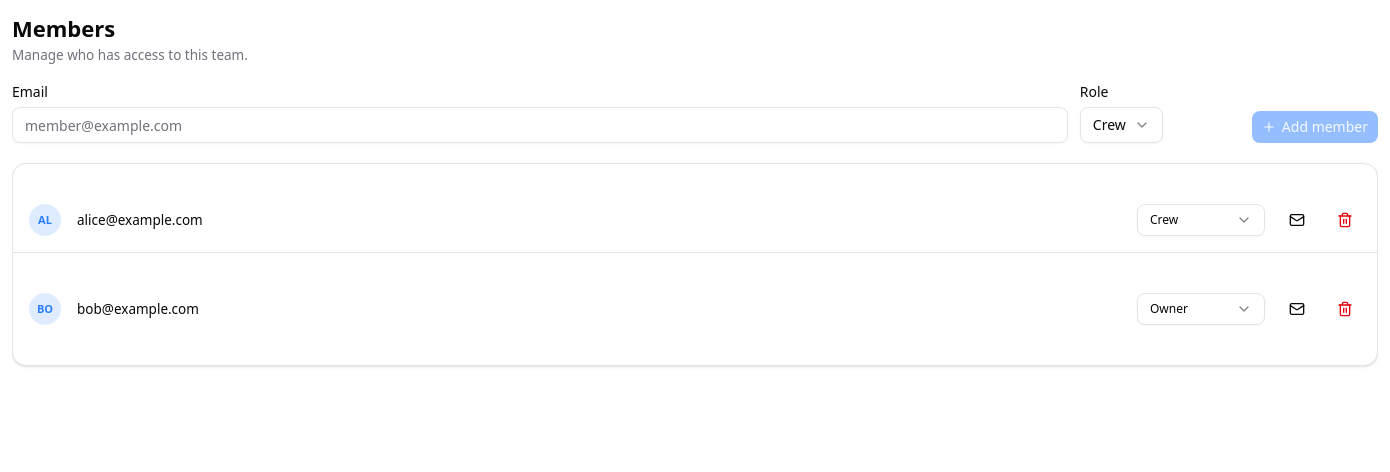
Test: MembersPage change role › shows an error and keeps the stored role when the change fails
Expected: the text "alice@example.com" is shown, [77,211,203,229]
Click the dropdown labelled "Crew" in the row of "alice@example.com".
click(1201, 220)  # box [1137,204,1265,236]
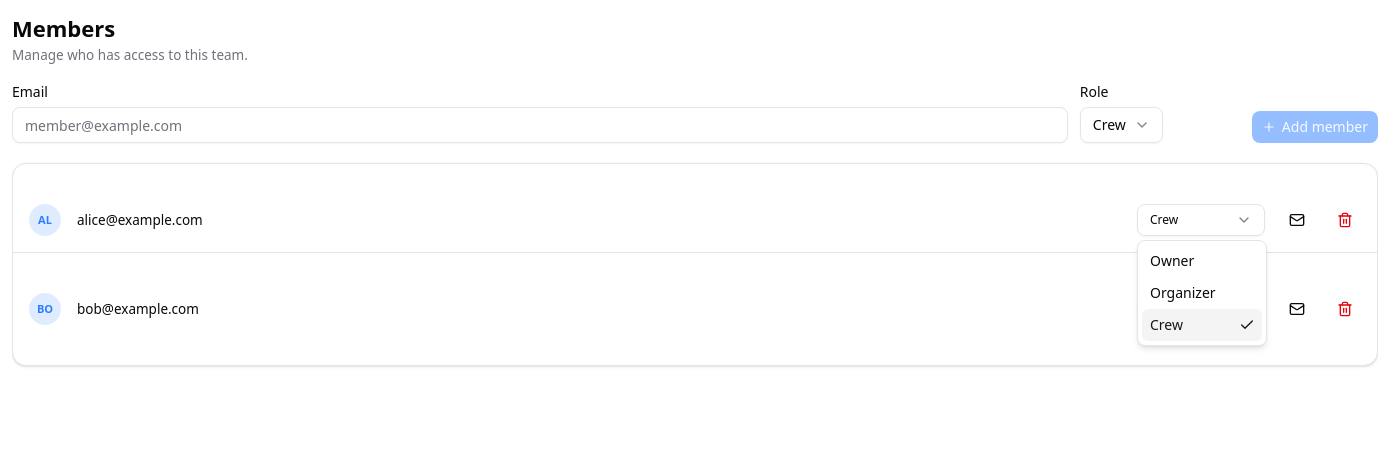
Click the option "Organizer".
click(1183, 292)  # box [1150,283,1216,302]
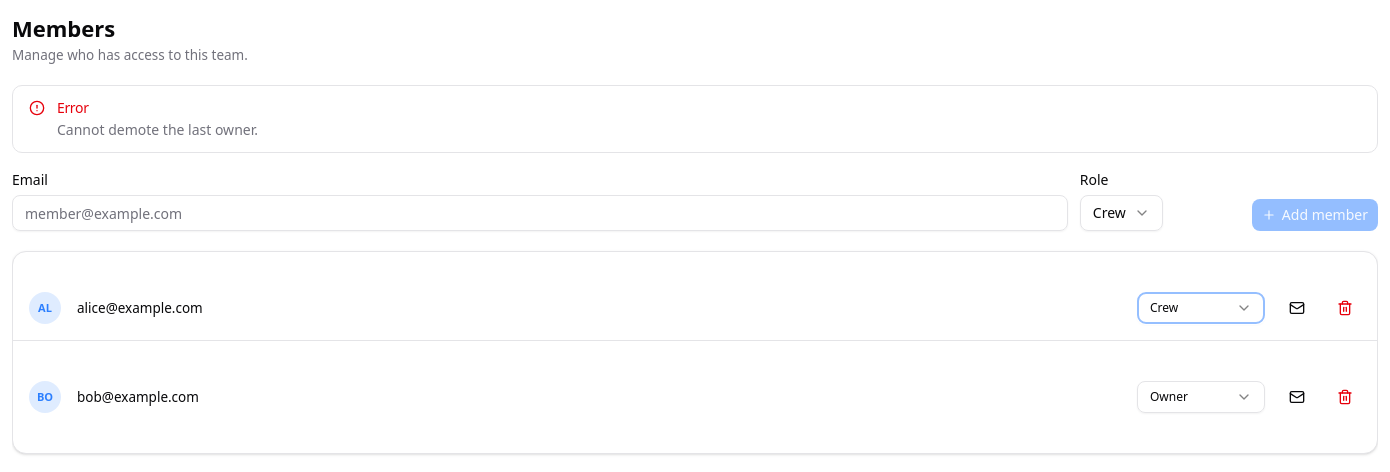
Expected: the dropdown labelled "Crew" in the row of "alice@example.com" is shown, [1137,292,1265,324]
Expected: the text "Cannot demote the last owner." is shown, [57,120,258,139]
